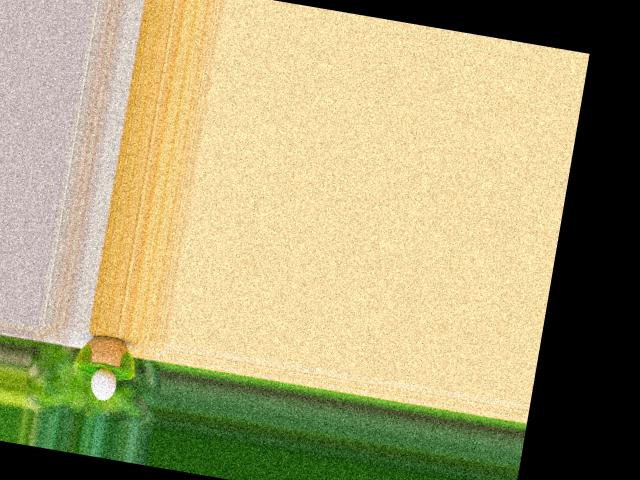egg: (87, 366, 118, 401)
